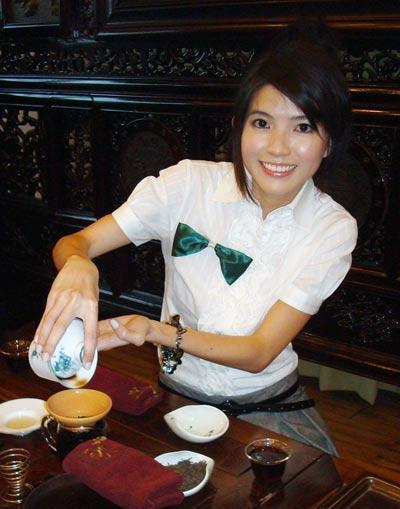person: (36, 30, 359, 458)
